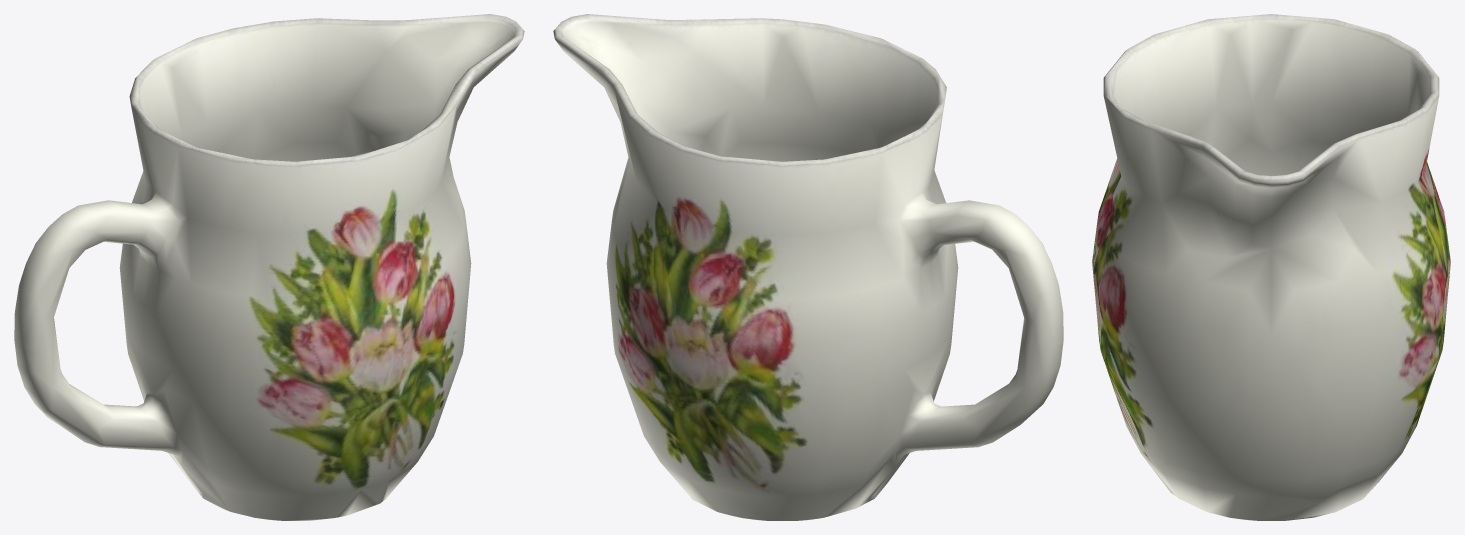
File: jug_01.glb
3 views of the same model, side by side, from view 1: azimuth 30°, elevation 25°; view 2: azimuth 150°, elevation 25°; view 3: azimuth 270°, elevation 25° (orthographic). The views are drawn at different scales.
Visible parts, largest first — view 1: jug_01; view 2: jug_01; view 3: jug_01.
Part boxes in pixels (box(x1,y1,x2,y2)): jug_01: box(14, 14, 524, 520); jug_01: box(553, 14, 1063, 520); jug_01: box(1092, 14, 1450, 520).
Size of the model in its own units: 0.275 by 0.2113 by 0.1675.
Materials: 1 (1 with a texture image).
